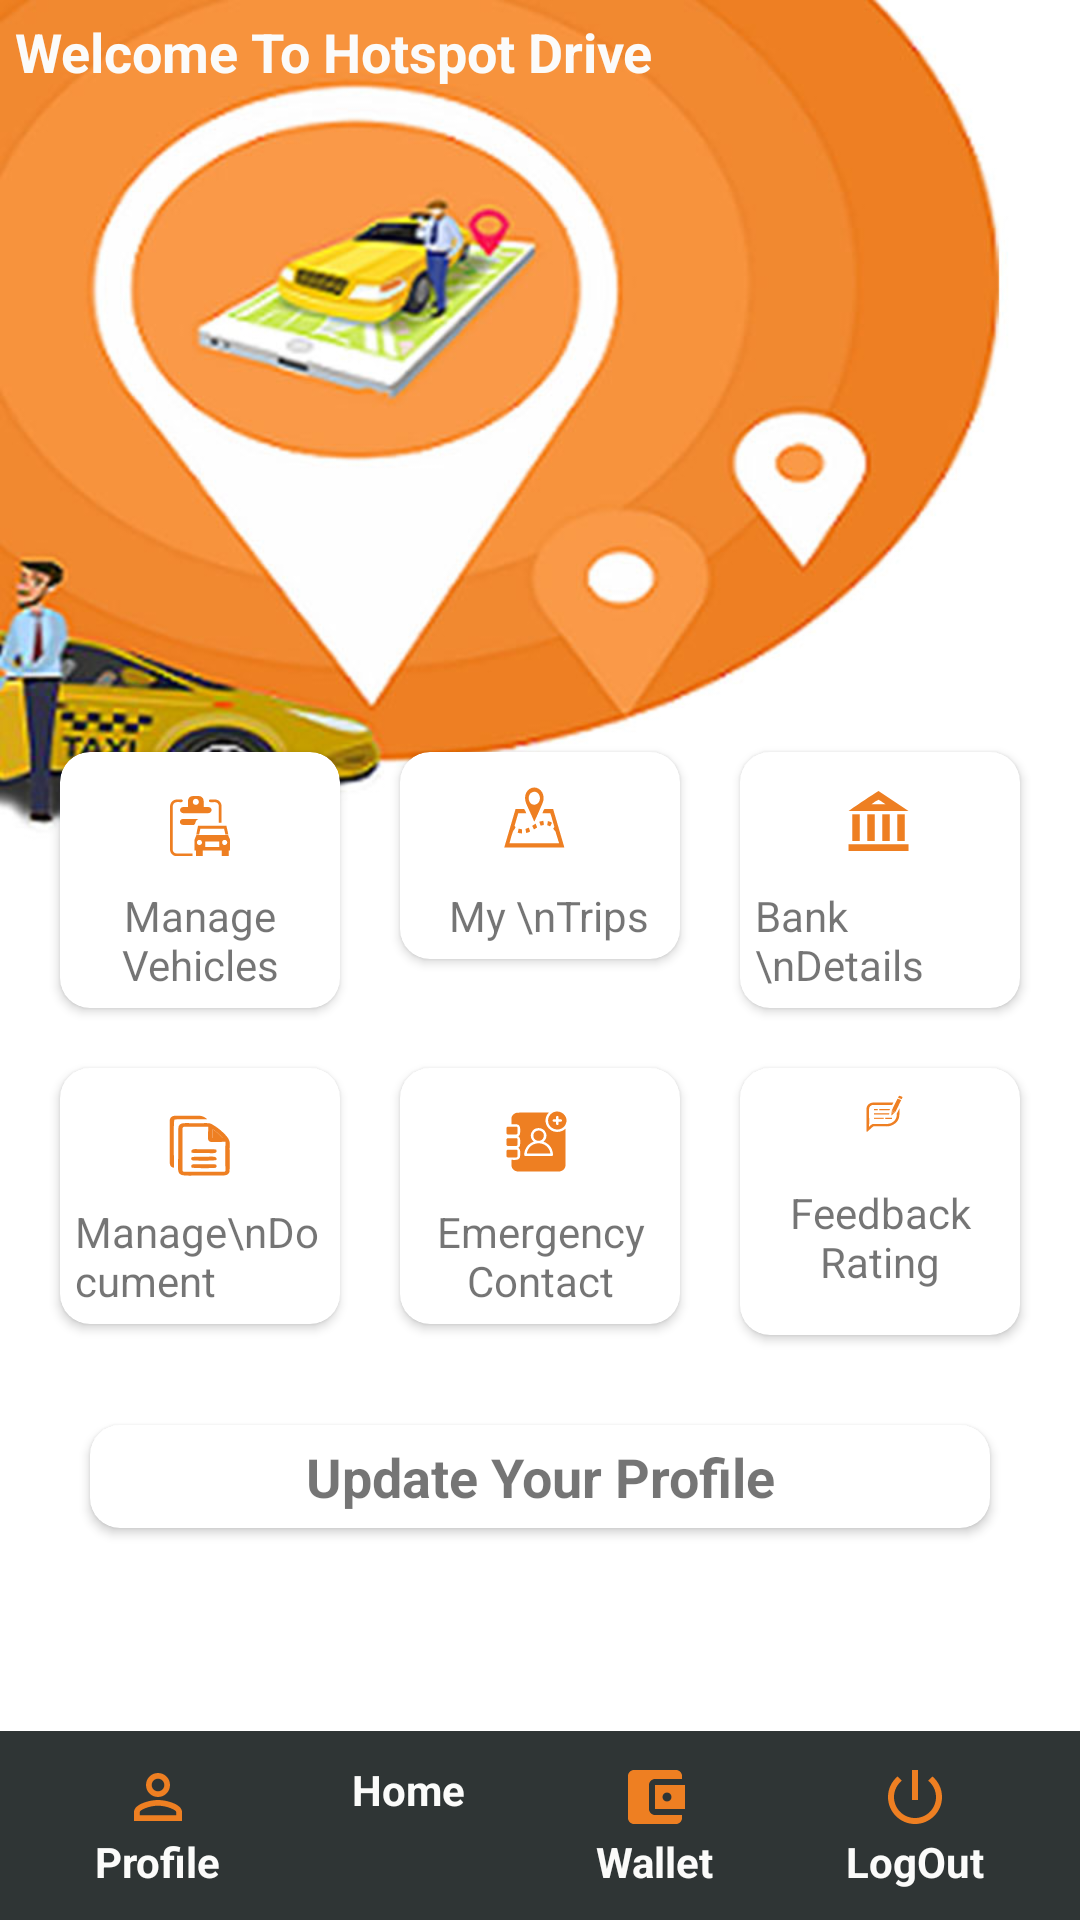

Screen size 1080×1920. Icon name, then its center in pixels as point (x, y):
bank details: point (878, 821)
manage document: point (199, 1145)
your trips: point (534, 817)
